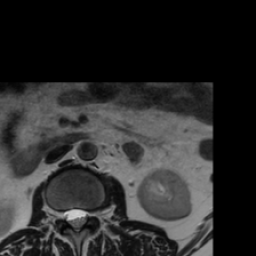CCS_normal: (72, 203, 79, 239)
LFS_stenosis: (87, 204, 95, 226)
LLS_normal: (79, 203, 87, 231)
RFS_normal: (56, 204, 65, 227)
RLS_normal: (65, 204, 72, 232)
